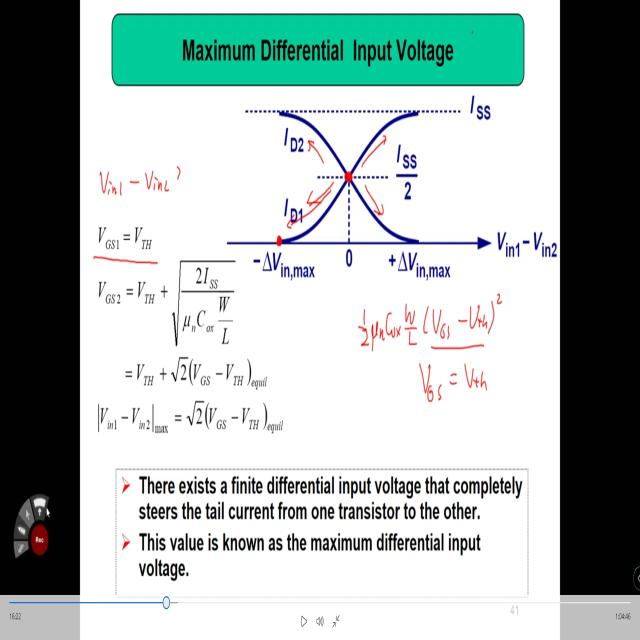panseo: (350, 283, 510, 415), (88, 152, 199, 209)
